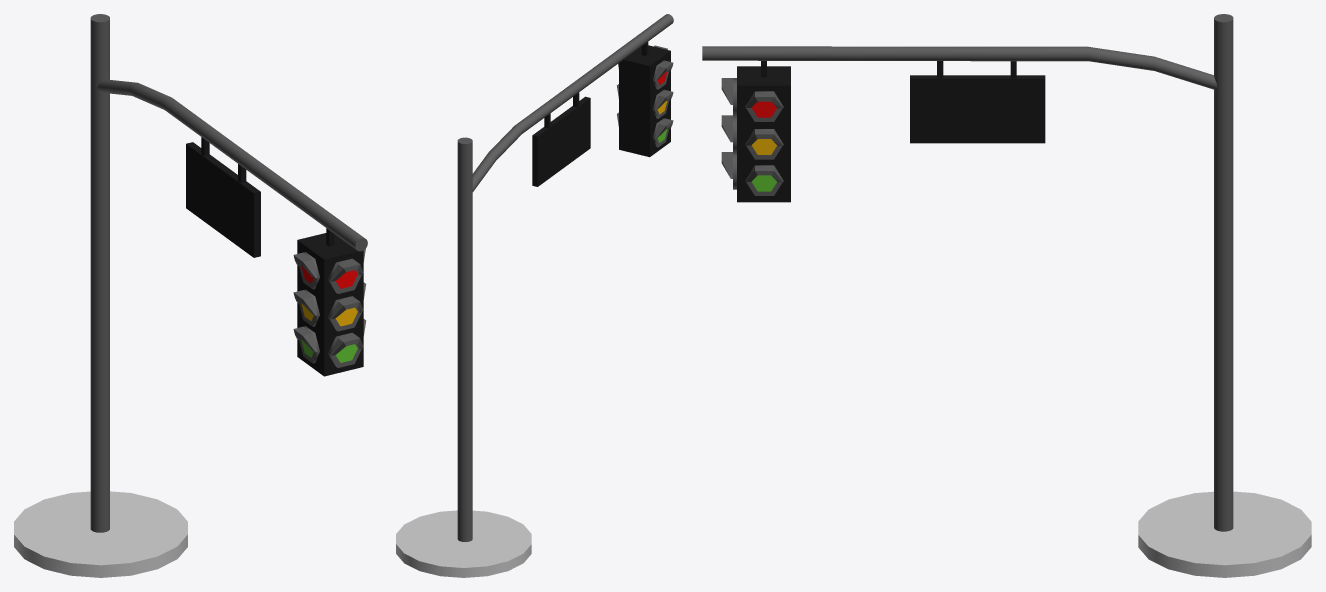
Rendered from traffic_s2_cylinder012_lev5.glb.
3 views of the same model, side by side, from view 1: azimuth 30°, elevation 25°; view 2: azimuth 150°, elevation 25°; view 3: azimuth 270°, elevation 25° (orthographic). The views are drawn at different scales.
Visible parts, largest first — view 1: traffic_s2_cylinder012_lev5; view 2: traffic_s2_cylinder012_lev5; view 3: traffic_s2_cylinder012_lev5.
Part boxes in pixels (bbox=[...]): traffic_s2_cylinder012_lev5: bbox=[14, 14, 367, 577]; traffic_s2_cylinder012_lev5: bbox=[396, 14, 673, 577]; traffic_s2_cylinder012_lev5: bbox=[702, 14, 1311, 577].
Size of the model in its own units: 1.45 by 4.73 by 5.
